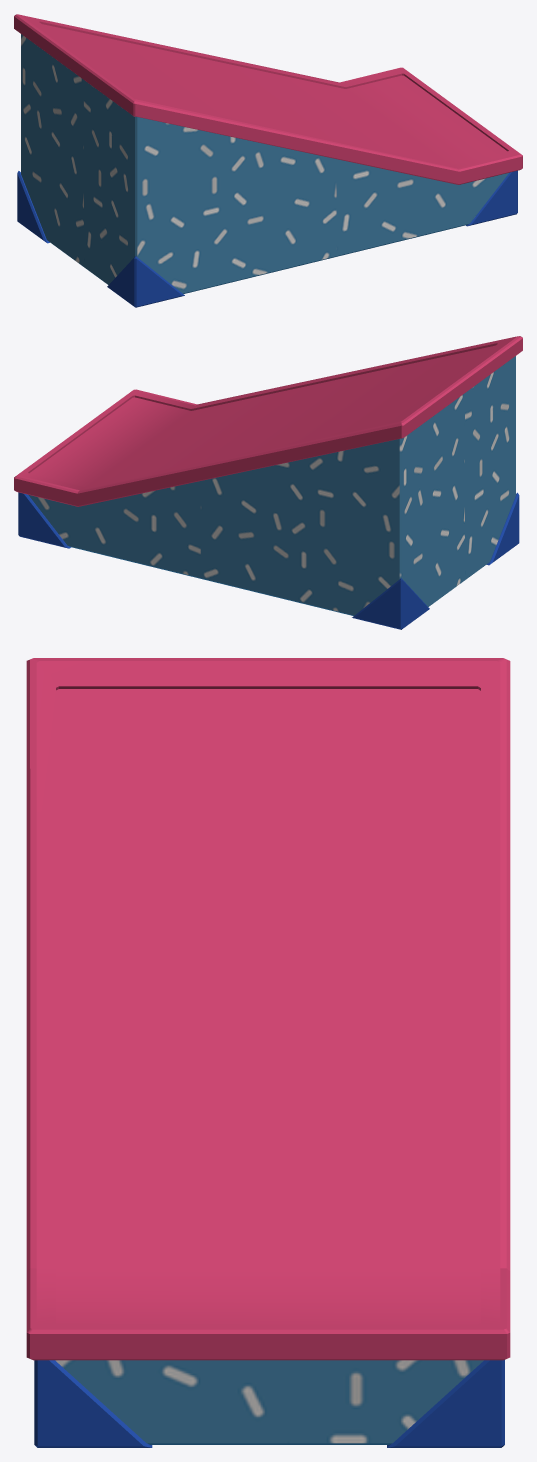
Rendered from PLF0110014.fbx.
3 views of the same model, one above another, from view 1: azimuth 30°, elevation 25°; view 2: azimuth 150°, elevation 25°; view 3: azimuth 270°, elevation 25° (orthographic). The views are drawn at different scales.
Parts seen in each view (by area): view 1: smPLF0110014; view 2: smPLF0110014; view 3: smPLF0110014.
Boxes of the visible parts, left/top/right/bottom form: smPLF0110014: left=14, top=14, right=522, bottom=307; smPLF0110014: left=14, top=336, right=522, bottom=629; smPLF0110014: left=26, top=658, right=510, bottom=1447.
Size of the model in its own units: 295 by 150 by 159.
1 material, 1 textured.
